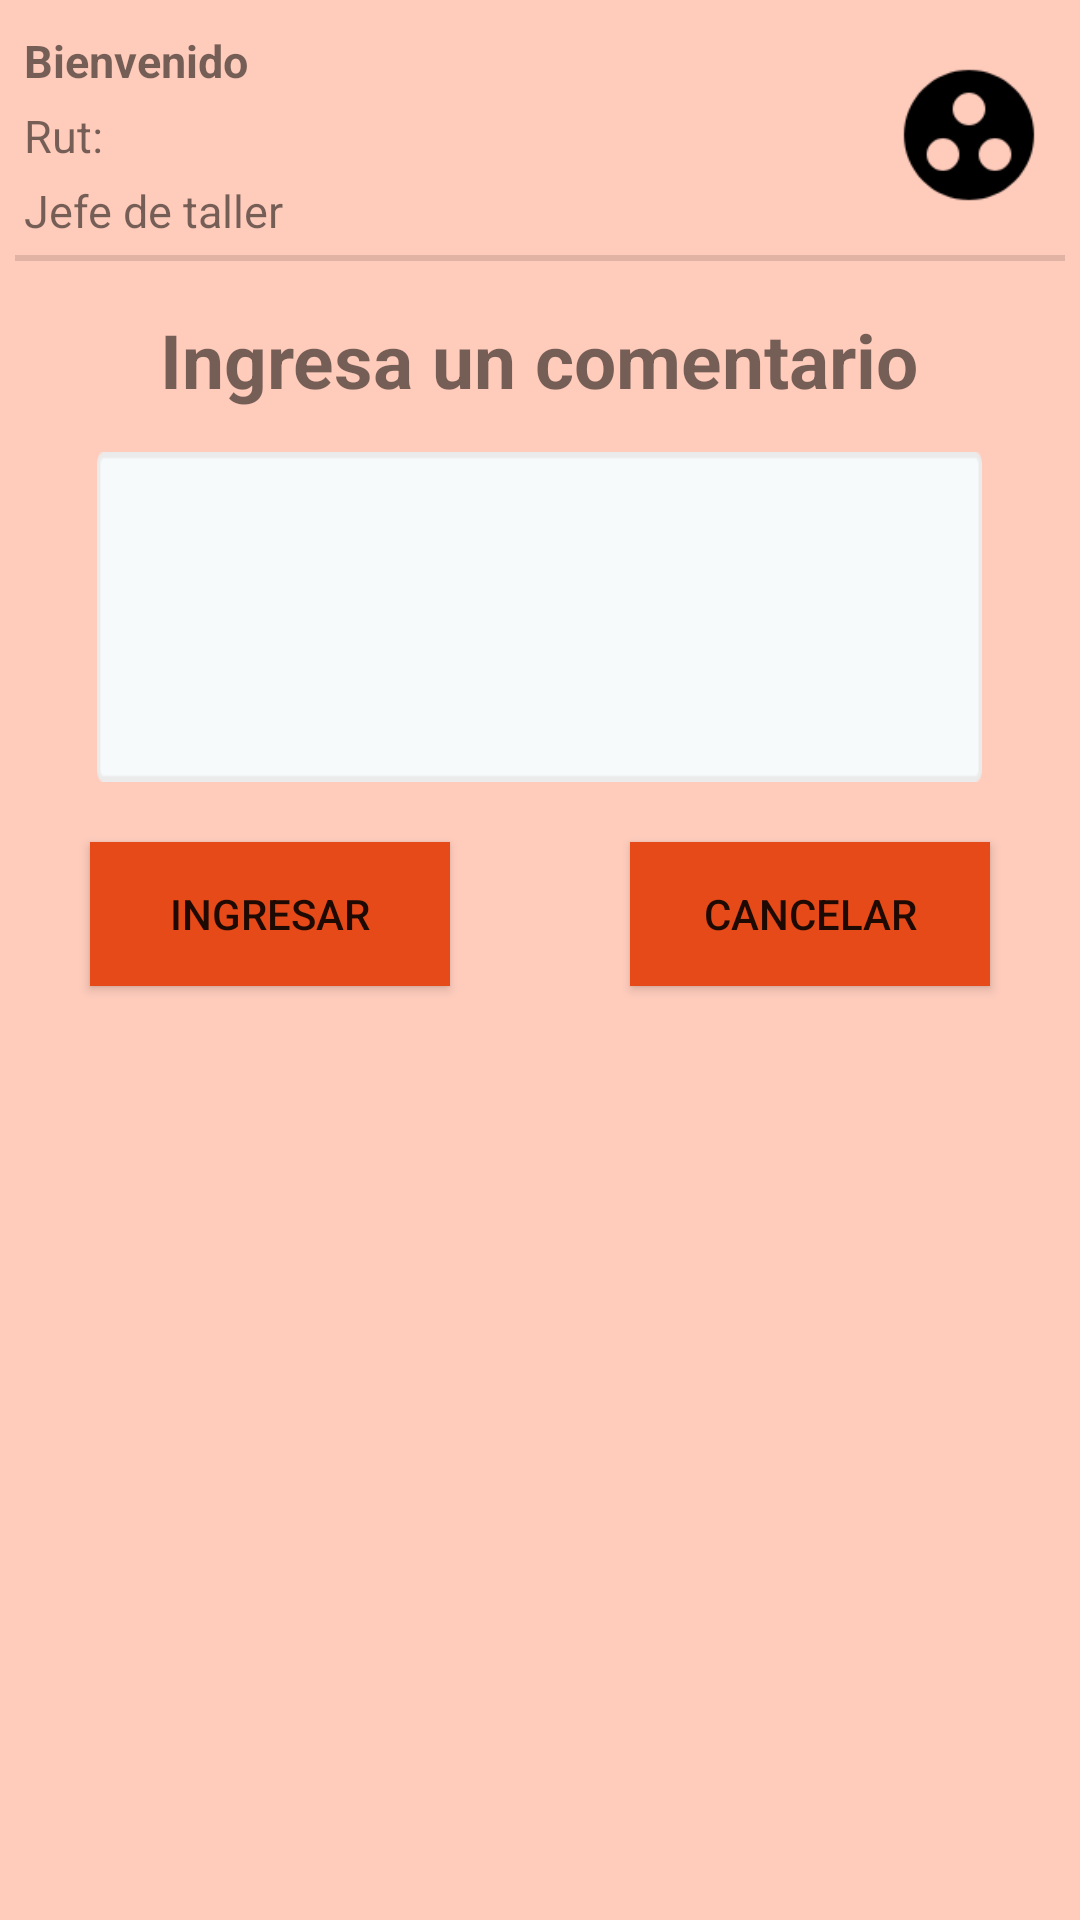

Where to tap for icons on this 1080x1920 app screen, as [x,y]:
group work: [969,135]
